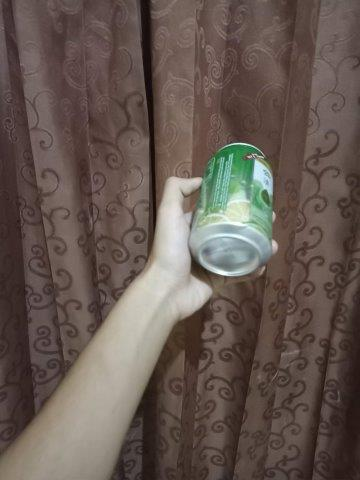kaleng: (189, 142, 274, 278)
